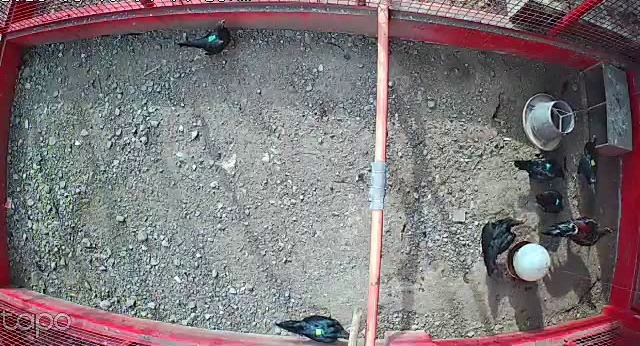Chicken: (475, 210, 529, 280), (271, 308, 359, 346), (173, 15, 235, 57), (567, 133, 601, 196), (510, 154, 569, 186), (532, 186, 571, 216)
Rooster: (542, 213, 616, 247)
Saddle_Color_Yellow: (589, 158, 596, 166)
Saddle_Color_YellowGreen: (315, 327, 325, 338)
